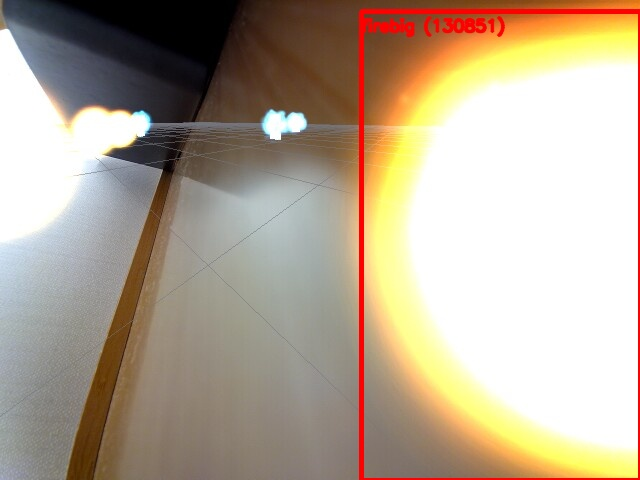firebig: (361, 11, 640, 480)
